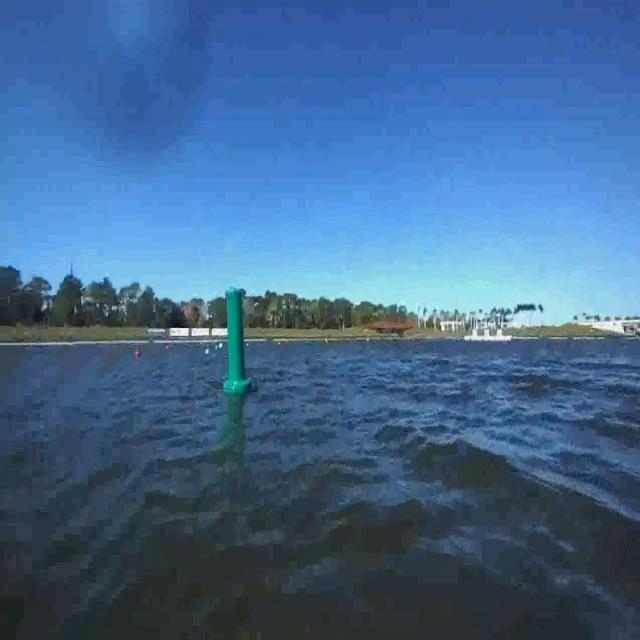green-column-buoy: (223, 284, 250, 395)
